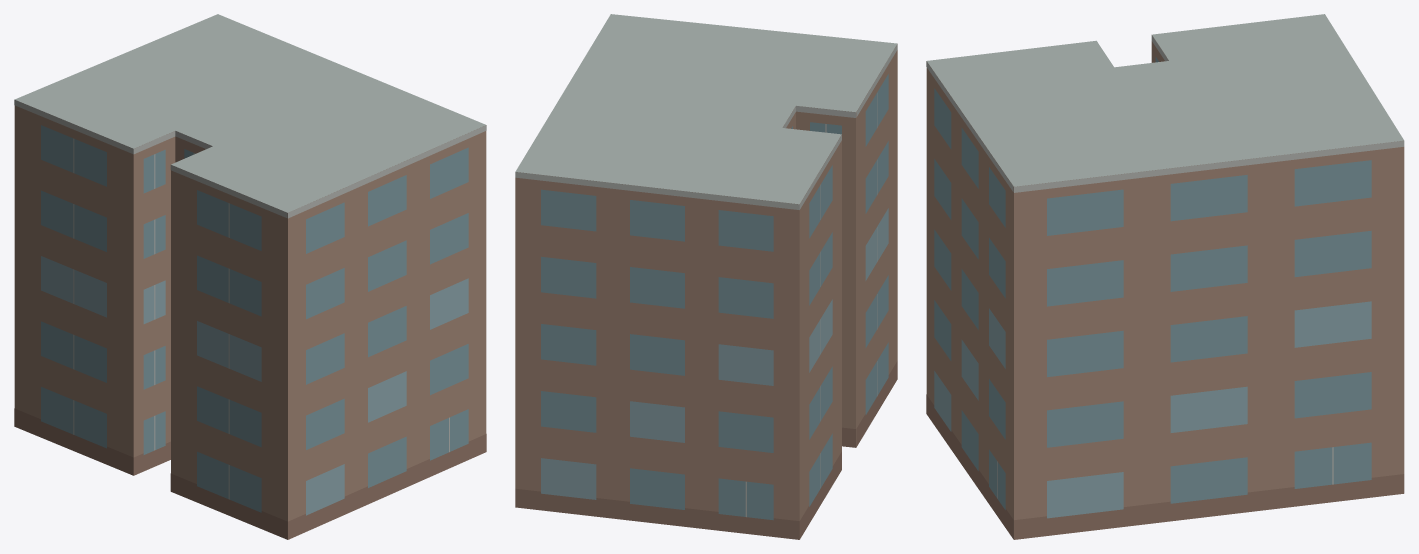
The model's file is survey-upis-32937528.glb.
3 renders of one model, left to right at view 1: azimuth 30°, elevation 25°; view 2: azimuth 150°, elevation 25°; view 3: azimuth 270°, elevation 25°, orthographic. The views are drawn at different scales.
Parts seen in each view (by area): view 1: survey-upis-32937528.tmp; view 2: survey-upis-32937528.tmp; view 3: survey-upis-32937528.tmp.
Part boxes in pixels (x1,y1,x2,y2): survey-upis-32937528.tmp: [14, 14, 486, 539]; survey-upis-32937528.tmp: [515, 14, 897, 539]; survey-upis-32937528.tmp: [926, 14, 1404, 539].
Size of the model in its own units: 14.7 by 14 by 17.18.
